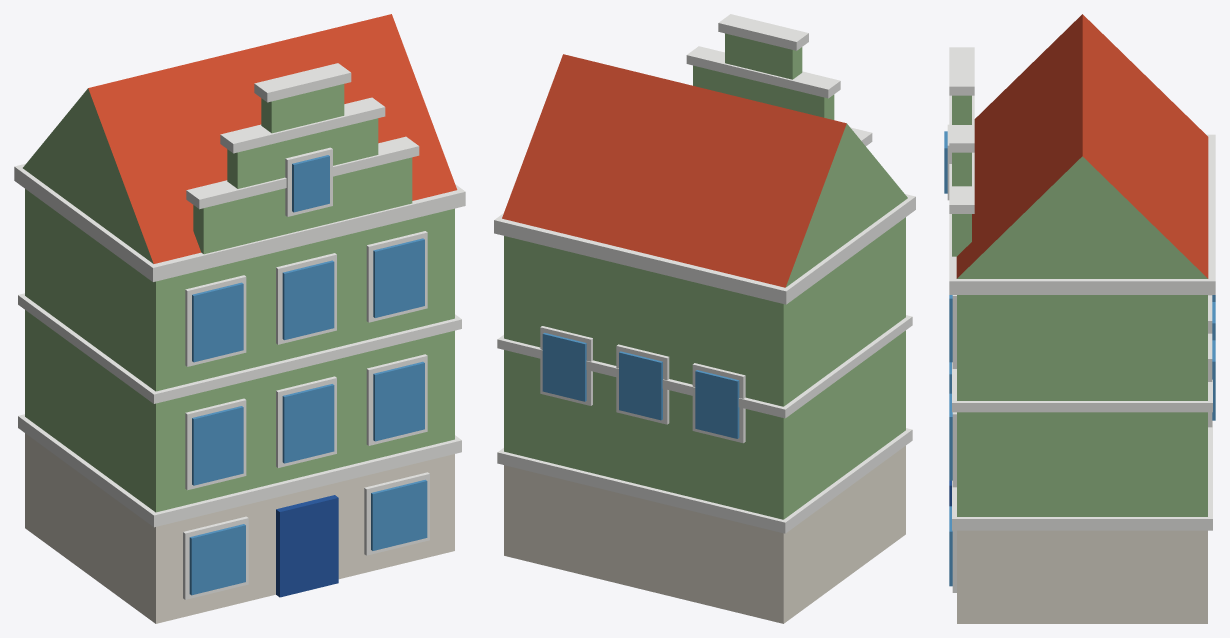
The model's file is 51_kgd_baroque_2.obj.
3 views of the same model, side by side, from view 1: azimuth 30°, elevation 25°; view 2: azimuth 150°, elevation 25°; view 3: azimuth 270°, elevation 25° (orthographic). The views are drawn at different scales.
Parts seen in each view (by area): view 1: 51_kgd_baroque_2; view 2: 51_kgd_baroque_2; view 3: 51_kgd_baroque_2.
Part boxes in pixels (box(x1,y1,x2,y2)): 51_kgd_baroque_2: box(14, 14, 465, 623); 51_kgd_baroque_2: box(494, 14, 915, 623); 51_kgd_baroque_2: box(944, 14, 1215, 623).
Size of the model in its own units: 1.38 by 2.14 by 1.08.
